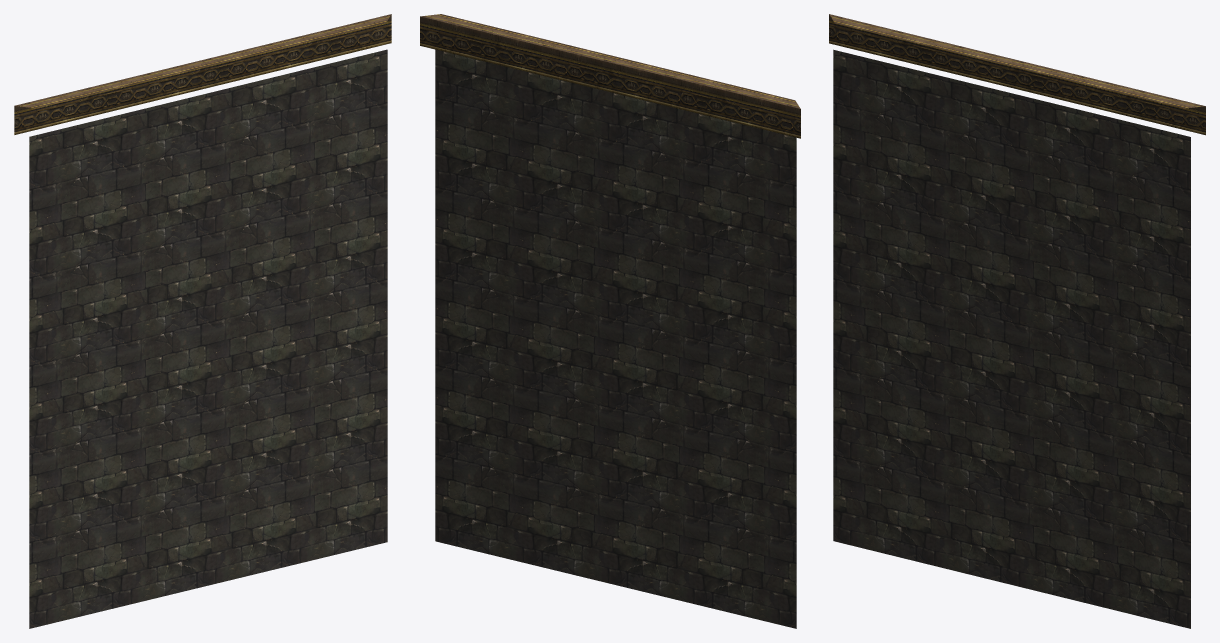
Rendered from A03_battle_a_part_01.FBX.
3 views of the same model, side by side, from view 1: azimuth 30°, elevation 25°; view 2: azimuth 150°, elevation 25°; view 3: azimuth 330°, elevation 25° (orthographic).
Parts seen in each view (by area): view 1: A03_battle_a_part_01; view 2: A03_battle_a_part_01; view 3: A03_battle_a_part_01.
Part boxes in pixels (x1=…): A03_battle_a_part_01: x1=14, y1=14, x2=391, y2=628; A03_battle_a_part_01: x1=420, y1=14, x2=800, y2=628; A03_battle_a_part_01: x1=829, y1=14, x2=1205, y2=628.
Bounding box in the file's own units: 12.74 × 16.85 × 0.4518.
